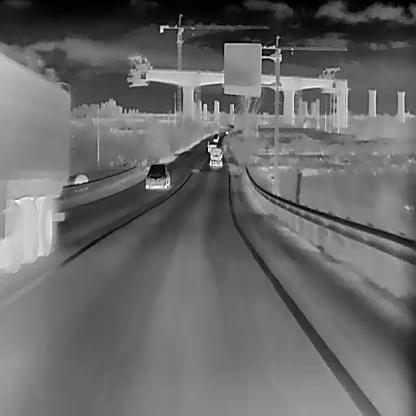car: (144, 162, 168, 190), (210, 148, 223, 165), (206, 141, 216, 151), (212, 135, 218, 141), (214, 132, 218, 138), (225, 130, 227, 133)
truck: (0, 52, 73, 270)
